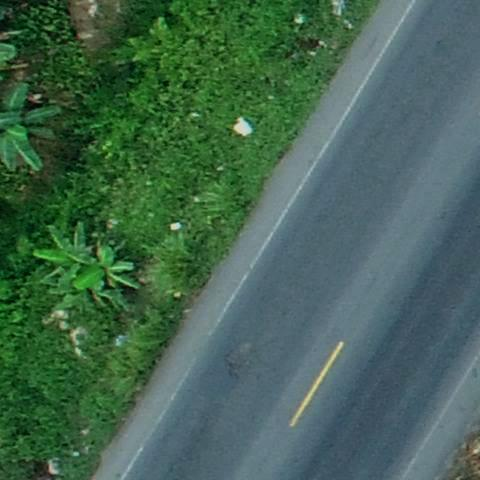Banana-plant: (0, 83, 66, 181), (32, 220, 105, 286), (72, 244, 140, 300)
